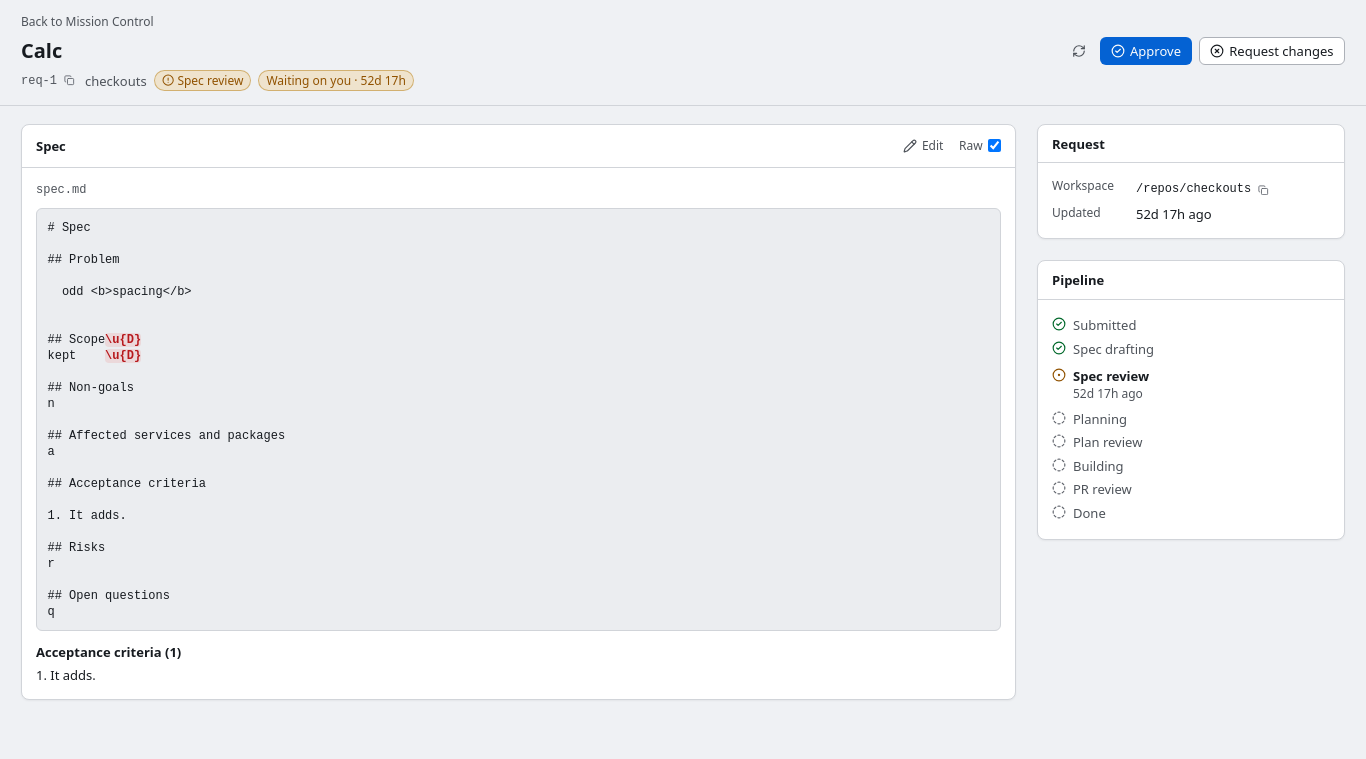
Test: closing the editor with a section field open asks before discarding it
Check: the heading "Calc" is shown, box top-left (21, 37), bottom-right (62, 64)
Check: the button "Approve" is enabled, box top-left (1100, 37), bottom-right (1192, 65)
Click the button "Edit". click: click(923, 146)
box: top-left (894, 134), bottom-right (952, 158)
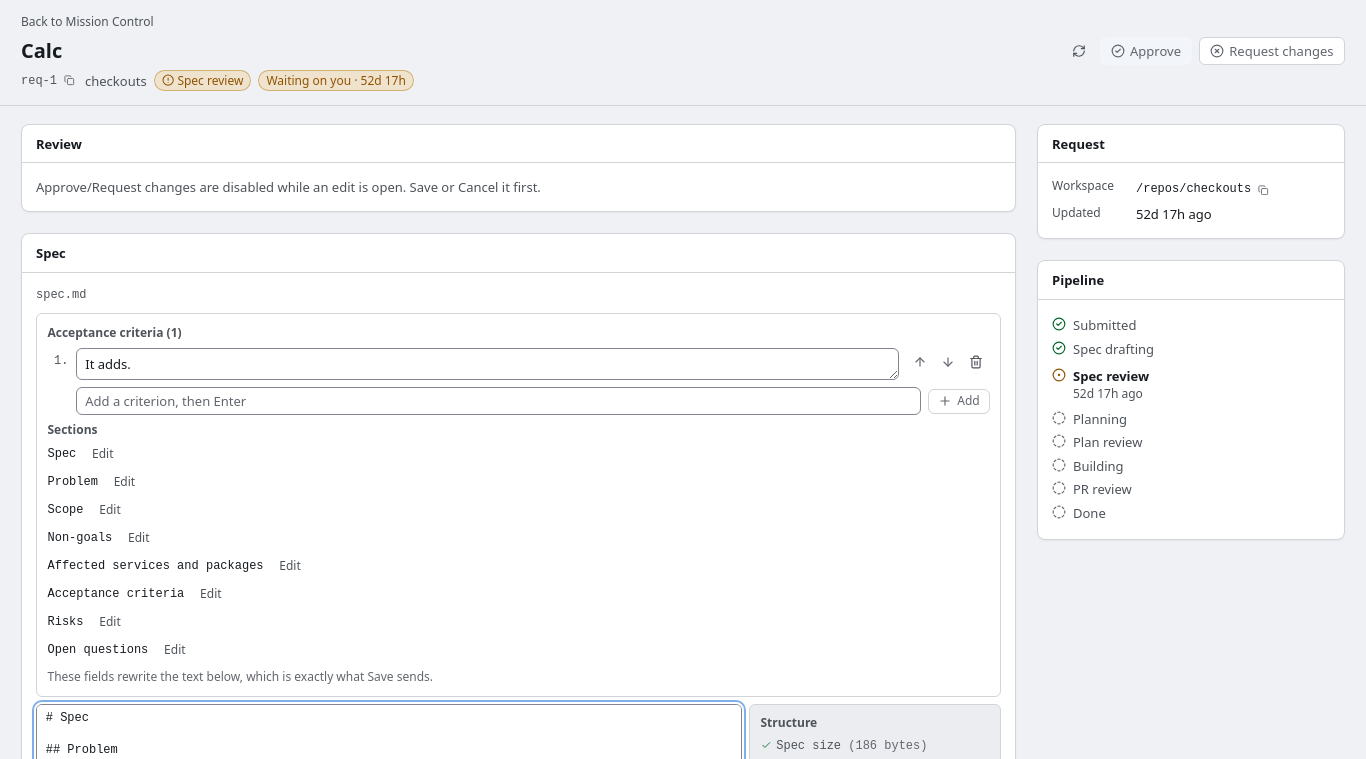
Click the button with aria-label "Edit section Risks". click: click(110, 622)
box: top-left (90, 610), bottom-right (130, 634)
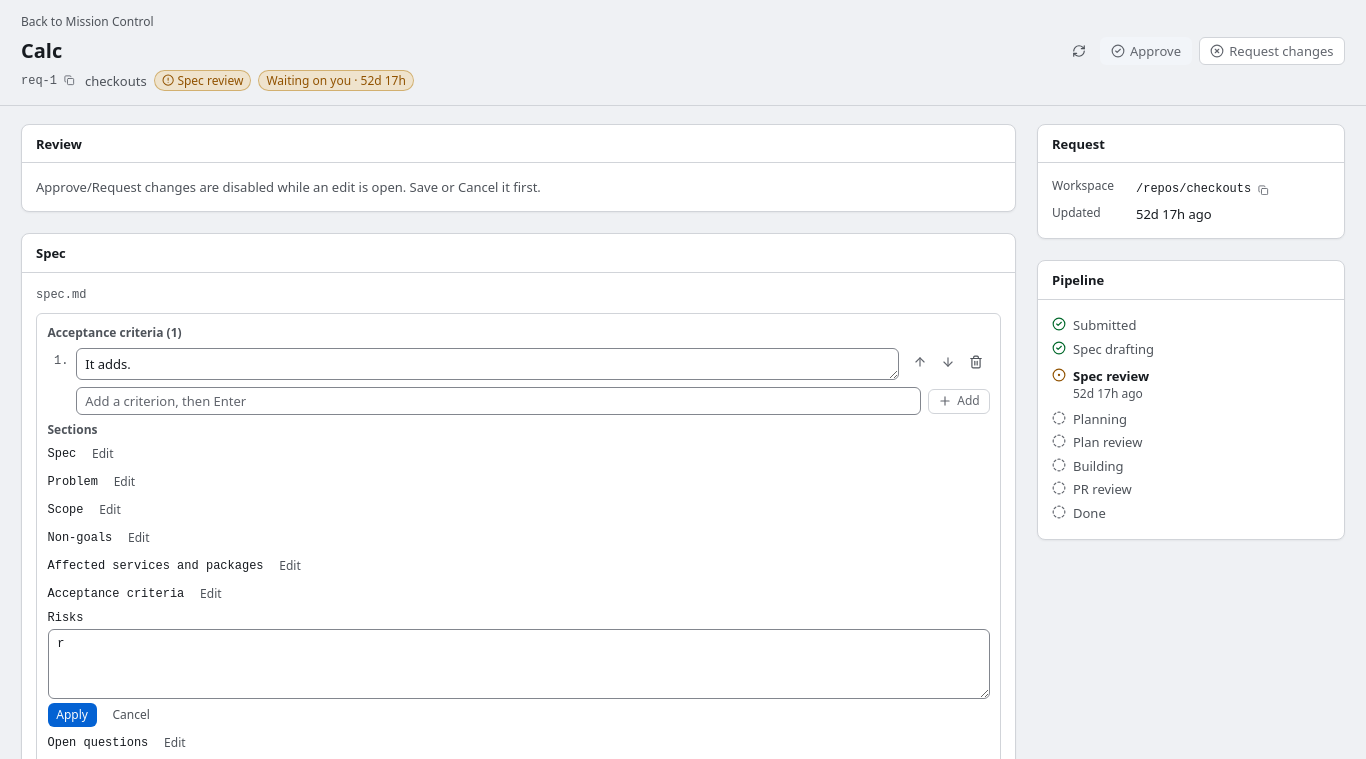
Type " more" into the text box named "Section Risks". click: (518, 664)
box: top-left (48, 629), bottom-right (990, 699)
(page scrolled)
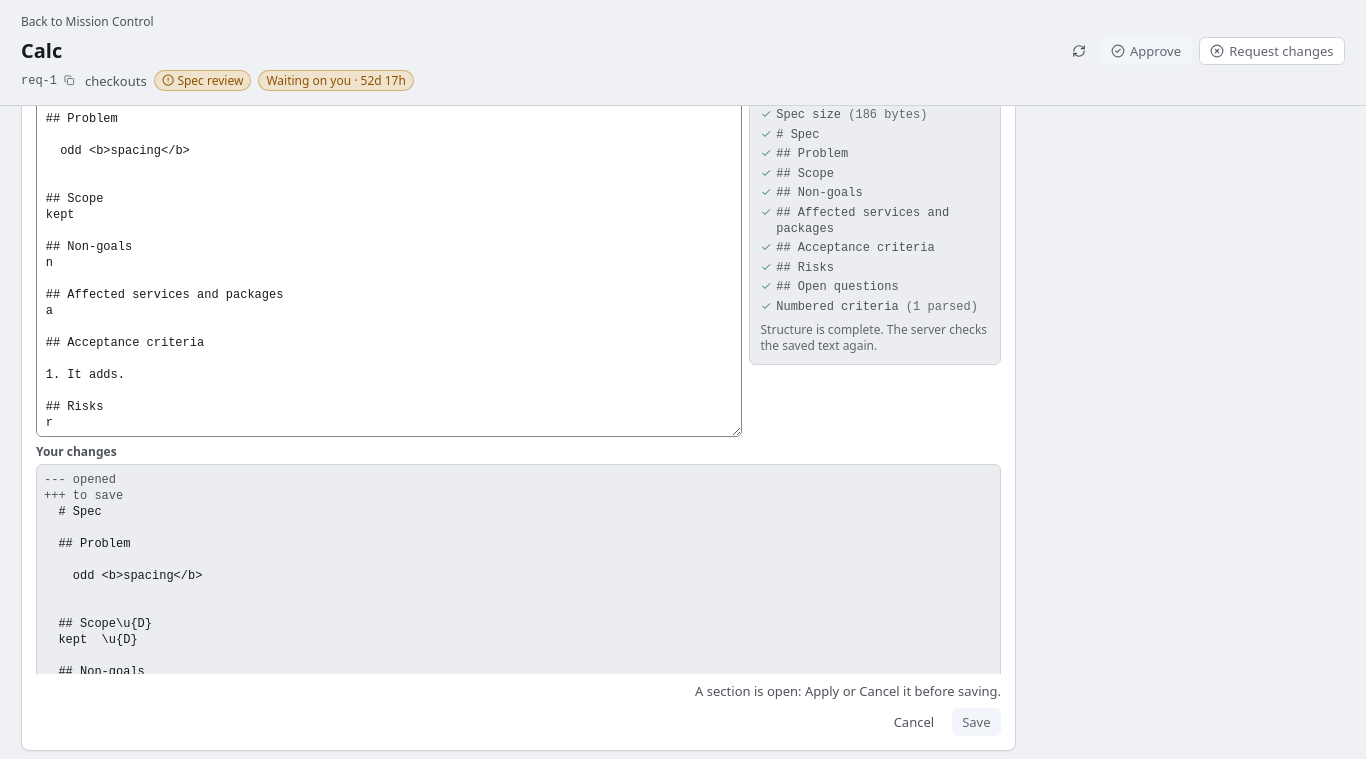
Click the button "Cancel". click: click(914, 722)
box: top-left (883, 708), bottom-right (945, 736)
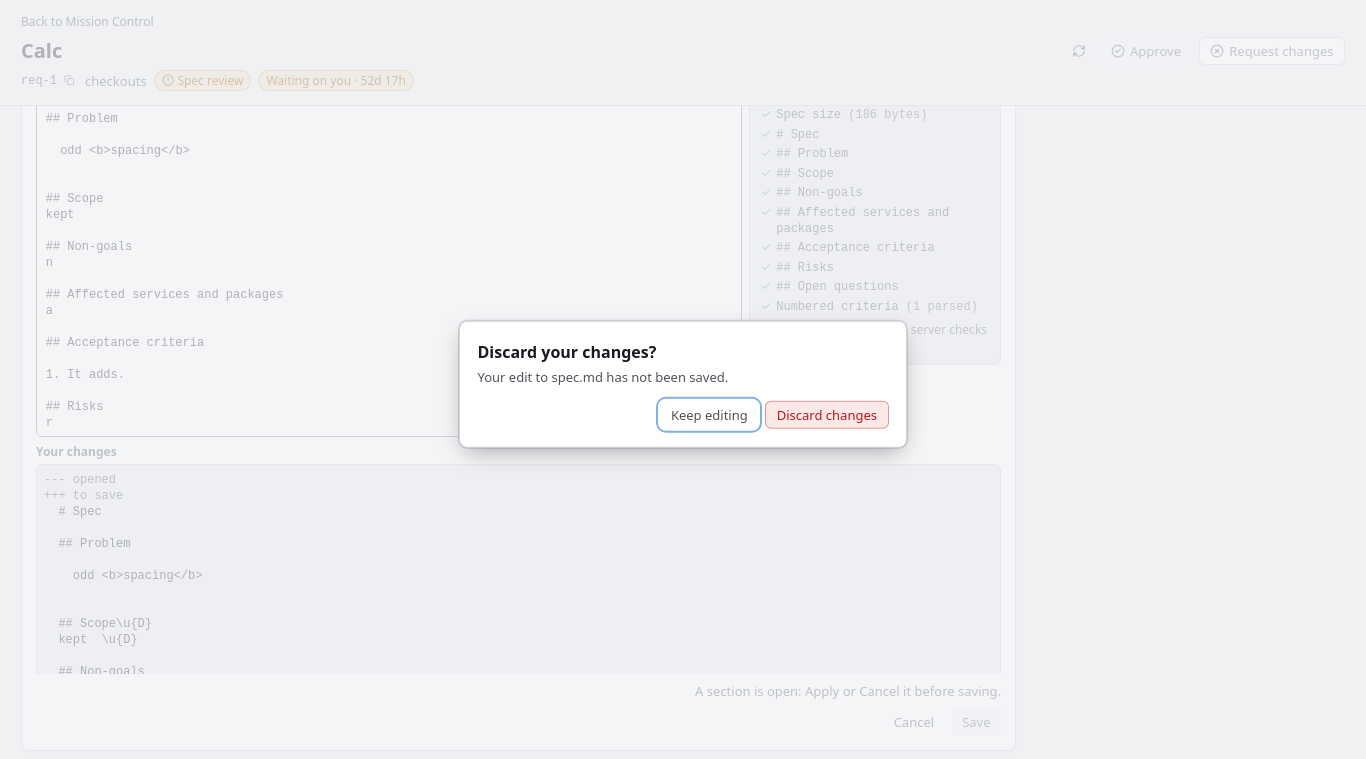
Check: the dialog "Discard your changes?" is shown, box top-left (459, 321), bottom-right (907, 447)
